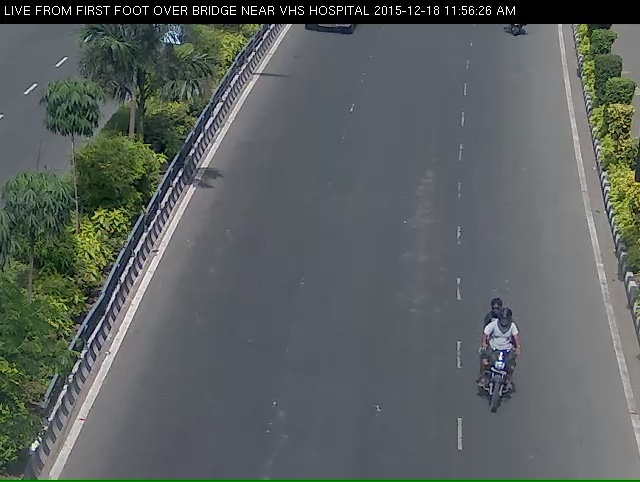Person: (467, 323, 528, 458)
